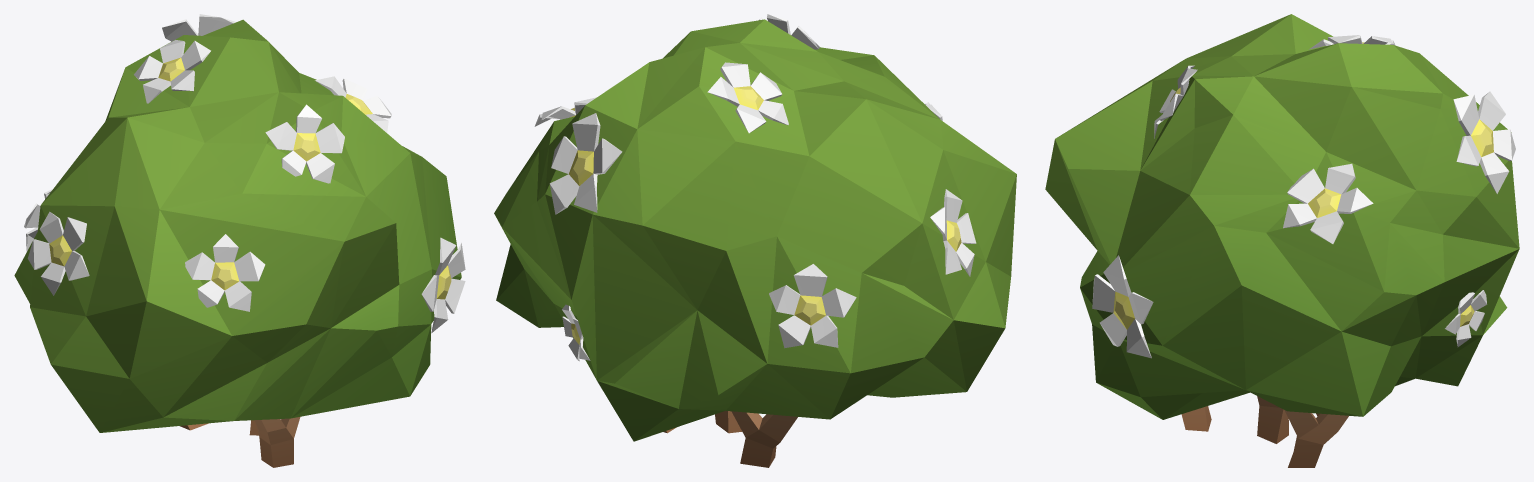
File: Bushes 2_Shiqi.glb
3 views of the same model, side by side, from view 1: azimuth 30°, elevation 25°; view 2: azimuth 150°, elevation 25°; view 3: azimuth 270°, elevation 25° (orthographic). The views are drawn at different scales.
Parts seen in each view (by area): view 1: Bush_average_flowers; view 2: Bush_average_flowers; view 3: Bush_average_flowers.
Part boxes in pixels (x1,y1,x2,y2): Bush_average_flowers: [14, 14, 465, 467]; Bush_average_flowers: [494, 14, 1016, 467]; Bush_average_flowers: [1045, 14, 1519, 467].
Size of the model in its own units: 4.68 by 4.08 by 4.48.
Materials: 1 (1 with a texture image).
